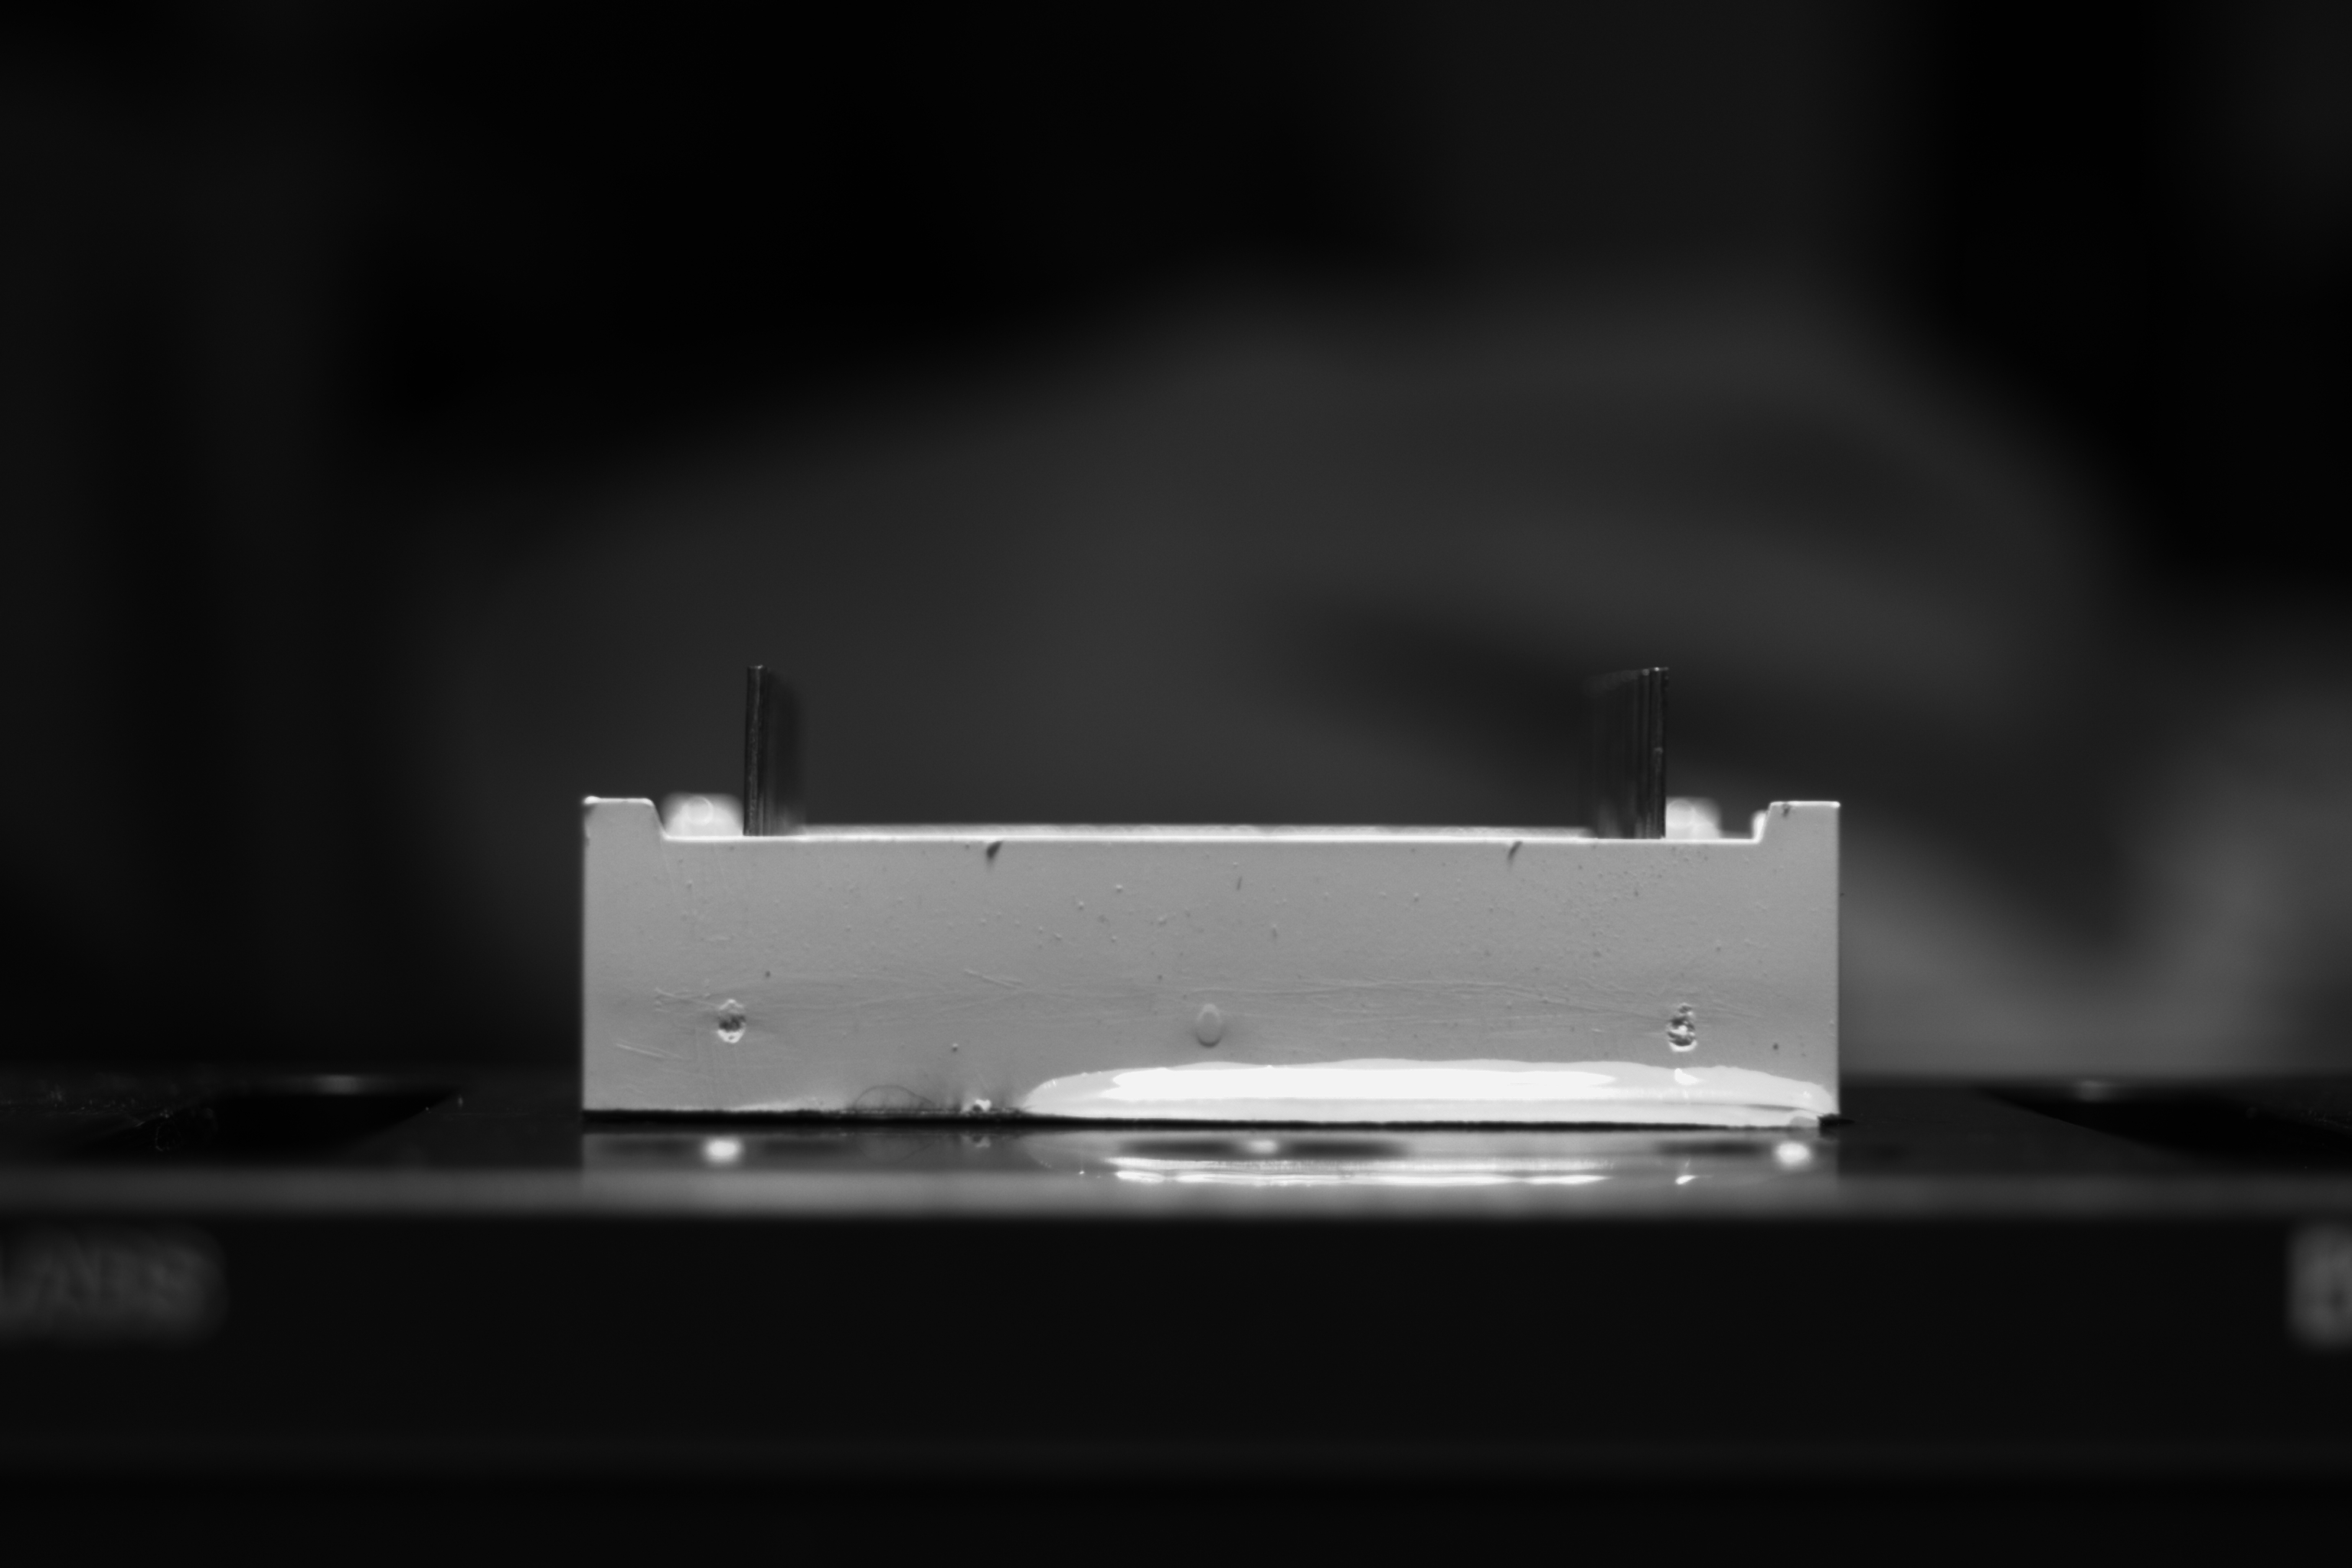glue: (1013, 1057, 1836, 1123)
injection_hole: (712, 996, 749, 1048), (1664, 1001, 1701, 1053)
pin_inclined_side: (744, 661, 766, 838)
